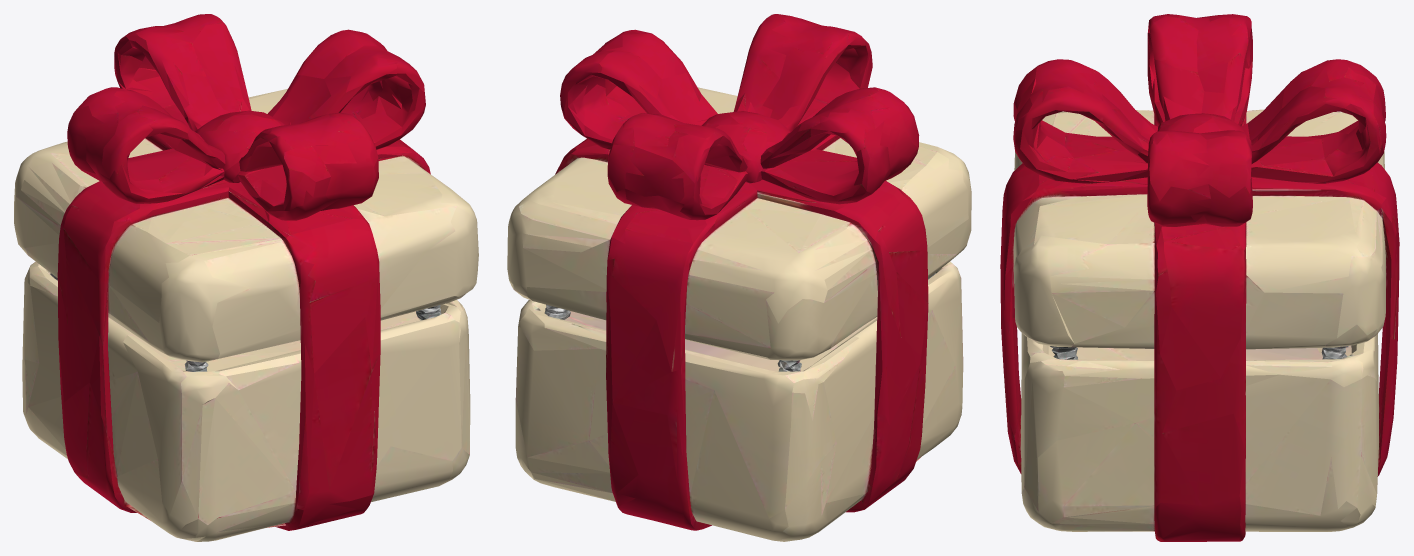
The model's file is gift_box.glb.
3 views of the same model, side by side, from view 1: azimuth 30°, elevation 25°; view 2: azimuth 150°, elevation 25°; view 3: azimuth 270°, elevation 25° (orthographic).
Size of the model in its own units: 1.7 by 1.9 by 1.7.
1 material, 1 textured.
